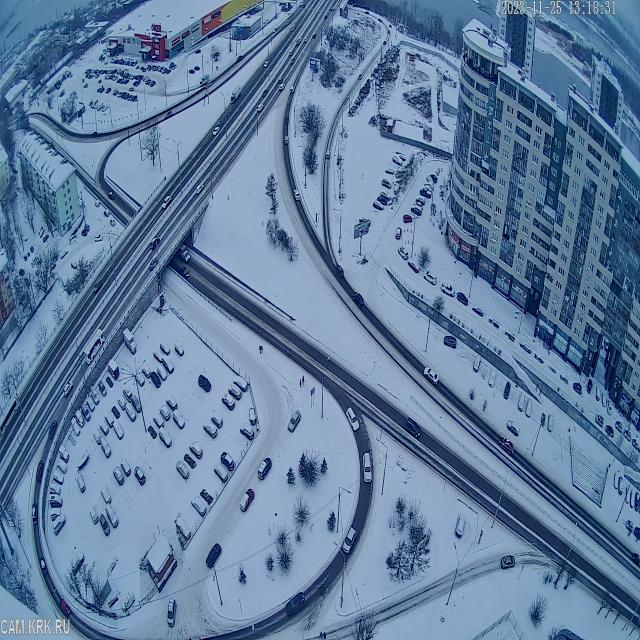car: (84, 325, 105, 365), (285, 591, 305, 618), (174, 515, 191, 541), (190, 493, 207, 518), (206, 543, 222, 569), (423, 363, 439, 389), (68, 552, 85, 576), (256, 456, 272, 481), (123, 328, 137, 356), (165, 598, 178, 628), (342, 528, 357, 554), (499, 433, 513, 459), (240, 489, 254, 513), (213, 462, 228, 484), (120, 592, 135, 614), (287, 411, 301, 434), (240, 419, 254, 442), (406, 417, 420, 440), (220, 451, 235, 472), (111, 464, 124, 488), (346, 408, 359, 432), (189, 438, 203, 460), (175, 458, 189, 480), (506, 418, 520, 440), (363, 453, 373, 483), (204, 418, 217, 441), (165, 392, 178, 415), (221, 391, 235, 412), (105, 506, 118, 528), (98, 515, 111, 537), (351, 287, 364, 309), (198, 374, 212, 394), (456, 511, 466, 539), (443, 332, 457, 352), (441, 280, 455, 300), (53, 514, 65, 537), (172, 408, 185, 429), (228, 381, 242, 400), (501, 553, 515, 572), (100, 484, 112, 506), (408, 253, 420, 275), (158, 428, 171, 448), (139, 360, 152, 380), (112, 420, 124, 441), (210, 411, 223, 430), (424, 268, 437, 287), (108, 360, 120, 380), (134, 466, 146, 486), (162, 356, 174, 376), (58, 599, 71, 617), (235, 374, 248, 392), (120, 456, 131, 477), (100, 437, 111, 458), (159, 402, 170, 423), (149, 372, 161, 391), (153, 348, 165, 367), (152, 412, 164, 431), (520, 336, 532, 355), (75, 474, 86, 494), (125, 402, 136, 422), (30, 502, 39, 526), (130, 396, 142, 414), (48, 494, 63, 508), (88, 504, 98, 525), (230, 85, 240, 106), (63, 380, 74, 399), (397, 243, 408, 262), (380, 174, 392, 191), (38, 558, 48, 578), (174, 339, 184, 359), (487, 369, 497, 389), (35, 461, 44, 483), (134, 369, 145, 387), (472, 300, 483, 318), (56, 458, 68, 474), (159, 339, 171, 355), (178, 265, 190, 281), (525, 394, 533, 418), (359, 213, 371, 229), (48, 421, 58, 440), (104, 409, 114, 428), (458, 289, 468, 308), (156, 364, 167, 381), (90, 387, 100, 405), (81, 404, 91, 422), (472, 353, 481, 373), (502, 380, 511, 400), (380, 187, 392, 202), (50, 506, 61, 522), (117, 395, 128, 411), (98, 380, 108, 397), (70, 419, 80, 436), (594, 413, 604, 430), (52, 471, 64, 485), (419, 186, 431, 200), (59, 447, 70, 462), (99, 421, 110, 436), (413, 197, 424, 212), (373, 198, 384, 213), (335, 262, 344, 280), (606, 396, 613, 419), (123, 386, 133, 402), (93, 429, 103, 445), (572, 380, 582, 396), (75, 411, 85, 426), (392, 153, 402, 168), (625, 516, 633, 534), (632, 550, 640, 568), (402, 212, 413, 225), (411, 204, 422, 217), (50, 480, 60, 494), (150, 237, 160, 251), (424, 174, 434, 188), (378, 194, 388, 208), (606, 424, 614, 441), (149, 259, 159, 272), (86, 397, 95, 411), (162, 197, 171, 211), (93, 280, 102, 294), (548, 413, 554, 434), (385, 164, 394, 178), (416, 194, 426, 206), (518, 392, 524, 411), (624, 428, 631, 444), (293, 189, 301, 202), (635, 524, 640, 544), (430, 170, 437, 184), (106, 190, 114, 202), (395, 225, 401, 241), (213, 125, 220, 137), (614, 470, 618, 491), (630, 488, 634, 509), (616, 422, 622, 436), (620, 477, 624, 497), (626, 485, 630, 505), (602, 390, 606, 410), (95, 233, 103, 242), (596, 384, 600, 402), (196, 184, 203, 194), (588, 380, 592, 397), (110, 217, 116, 227), (283, 134, 289, 144), (81, 230, 88, 238), (325, 150, 330, 161), (279, 83, 285, 92), (258, 103, 263, 113), (104, 210, 110, 218), (262, 89, 268, 97), (636, 492, 638, 514), (84, 224, 90, 231), (290, 86, 294, 94), (95, 202, 100, 208)
